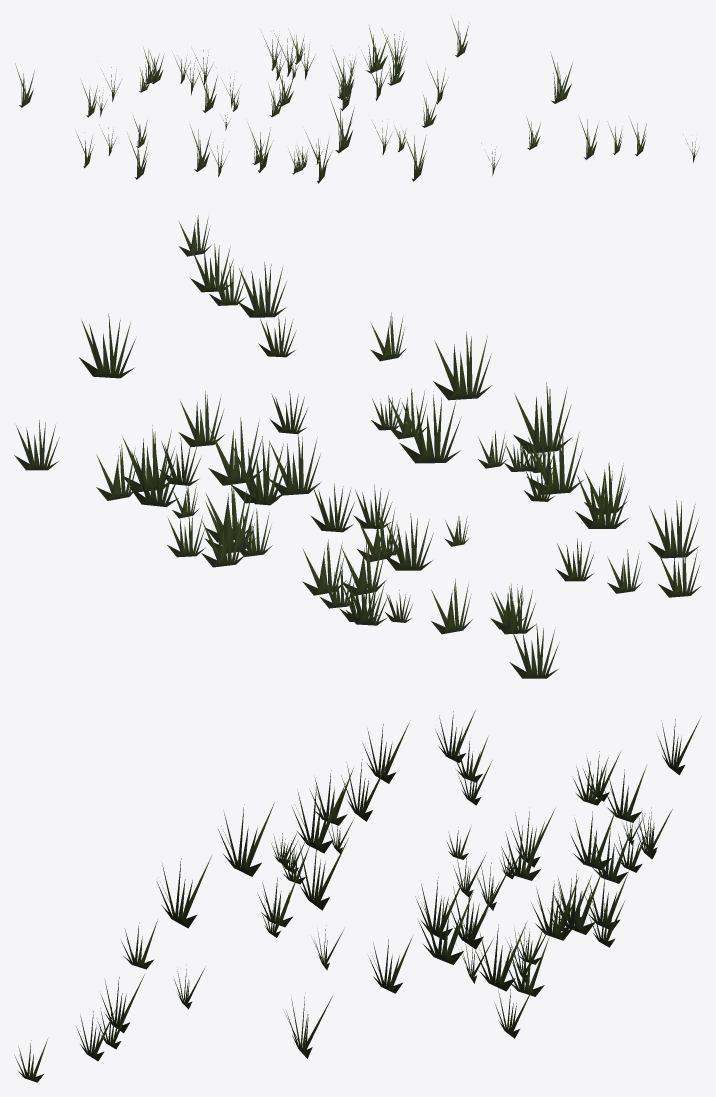
Rendered from GrassLeft.fbx.
3 views of the same model, one above another, from view 1: azimuth 30°, elevation 25°; view 2: azimuth 150°, elevation 25°; view 3: azimuth 270°, elevation 25° (orthographic). The views are drawn at different scales.
Visible parts, largest first — view 1: Grass_Polybrush_Clone__55; view 2: Grass_Polybrush_Clone__55; view 3: Grass_Polybrush_Clone__55.
Part boxes in pixels (x1=…): Grass_Polybrush_Clone__55: x1=15, y1=18, x2=698, y2=183; Grass_Polybrush_Clone__55: x1=14, y1=215, x2=700, y2=678; Grass_Polybrush_Clone__55: x1=14, y1=710, x2=701, y2=1082.
Bounding box in the file's own units: 529 × 463 × 50.83.
